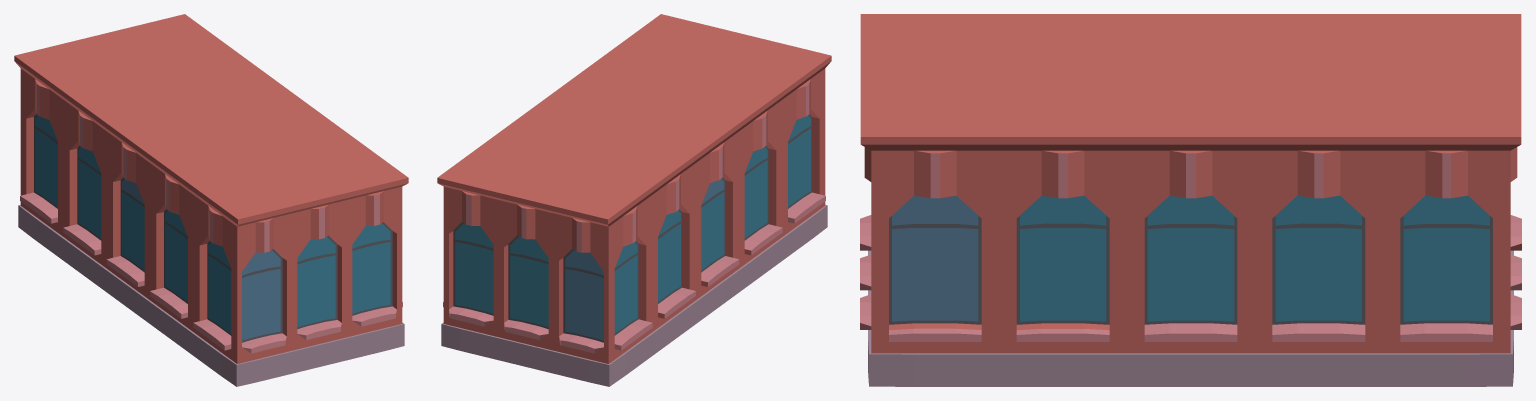
File: building_1x2_2_f.glb
3 renders of one model, left to right at view 1: azimuth 30°, elevation 25°; view 2: azimuth 150°, elevation 25°; view 3: azimuth 270°, elevation 25°, orthographic. The views are drawn at different scales.
Parts seen in each view (by area): view 1: SecondFloor; view 2: SecondFloor; view 3: SecondFloor.
Part boxes in pixels (<box>): SecondFloor: <box>14,14,408,386</box>; SecondFloor: <box>437,14,831,386</box>; SecondFloor: <box>860,14,1521,386</box>.
Size of the model in its own units: 1.76 by 1.6 by 3.83.
